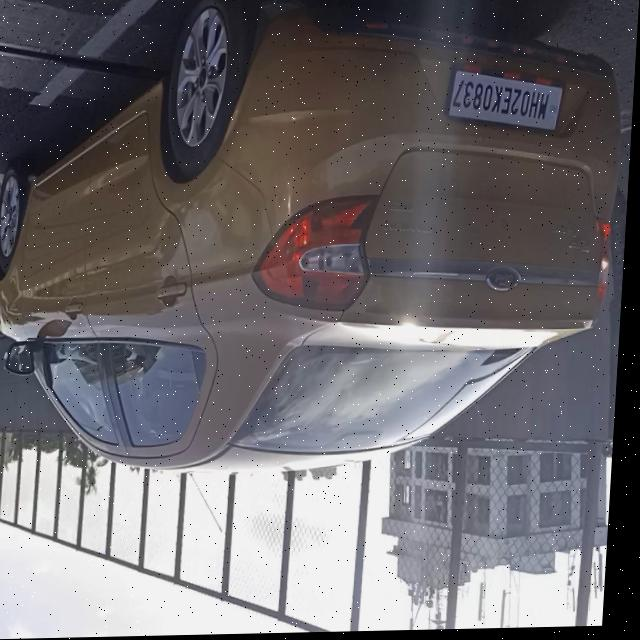plate: (443, 59, 566, 139)
